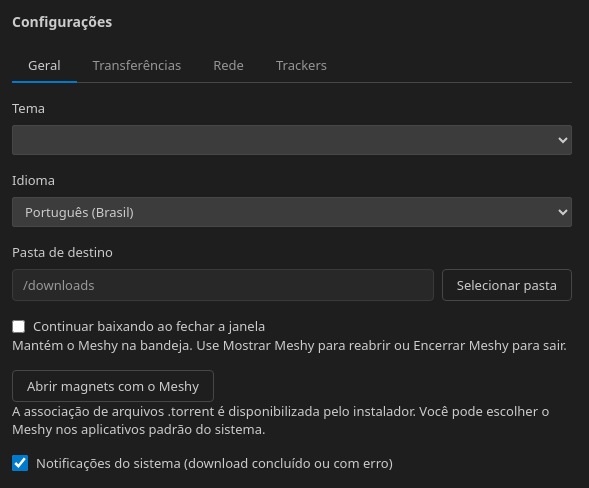
Test: SettingsPanel — seção Rede avançada › checkboxes refletem combinação mista de valores carregados
What coordinates should you click on to do the following:
click the tab "Rede"
I would click on:
 (229, 65)
Its box is [197,48,260,82].
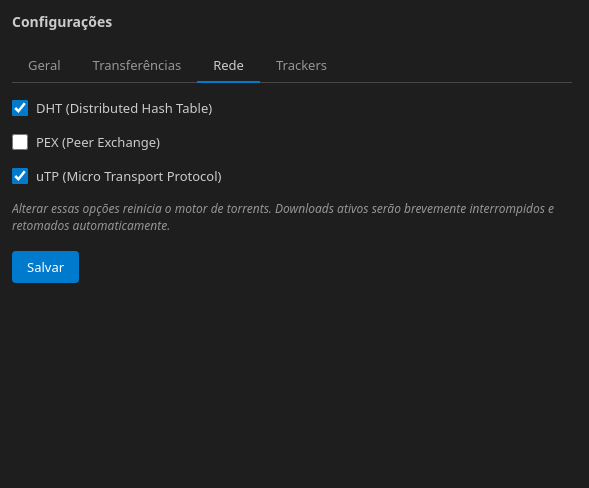
Expected: the checkbox labelled "DHT (Distributed Hash Table)" is checked, [12,100,28,116]
Expected: the checkbox labelled "PEX (Peer Exchange)" is not checked, [12,134,28,150]
